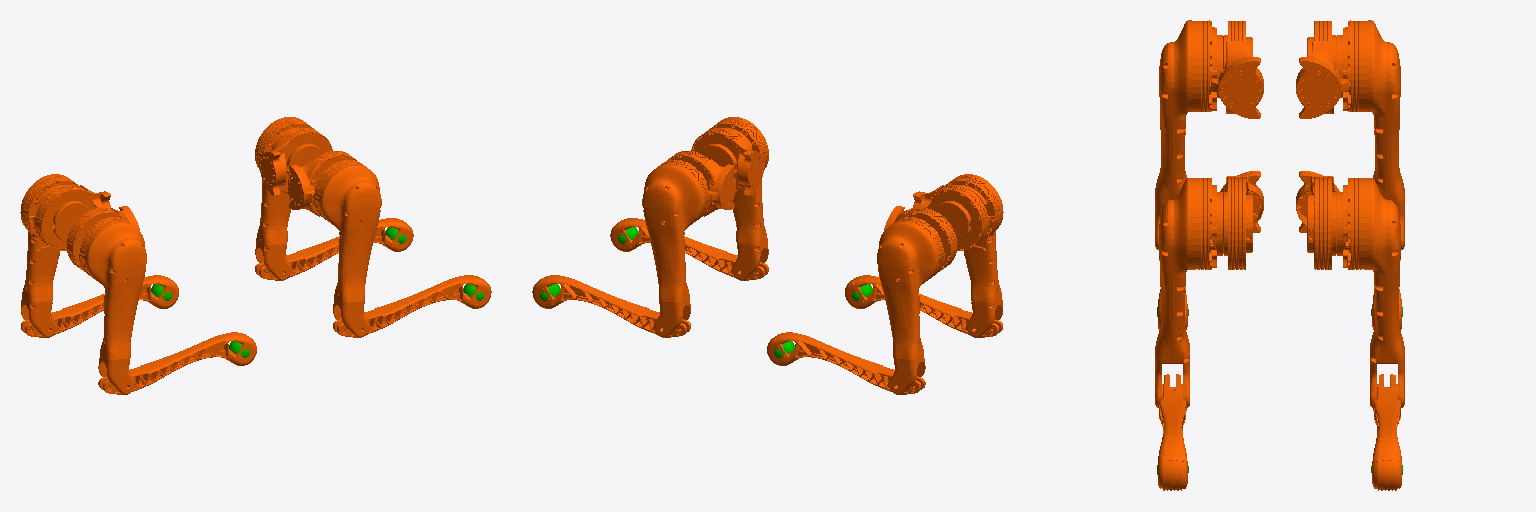
--- Facts derived from the render (not from the file) ---
Views: 3 orthographic renders of the robot side by side, from view 1: azimuth 30°, elevation 25°; view 2: azimuth 150°, elevation 25°; view 3: azimuth 270°, elevation 25°.
Robot: b1_description — 19 links, 18 joints (8 revolute, 4 continuous, 6 fixed); root link base; default pose: all joints at 0 but 4 set to mid-range because 0 is outside their limits (FR_calf_joint = -1.6, FL_calf_joint = -1.6, RR_calf_joint = -1.6, RL_calf_joint = -1.6).
Links seen in each view (by area): view 1: FR_thigh, RR_thigh, RL_thigh, FL_thigh, FR_calf, RR_calf, RL_hip, FL_hip, FL_calf, RL_calf, FR_hip, RR_hip; view 2: FL_thigh, RL_thigh, RR_thigh, FR_thigh, FL_calf, RL_calf, RR_hip, FR_hip, FR_calf, RR_calf, FL_hip, RL_hip; view 3: FR_thigh, FL_thigh, RL_thigh, RR_thigh, RR_hip, RL_hip, FR_hip, FL_hip, FR_calf, FL_calf.
Link boxes in pixels (x1=…): FR_thigh: x1=313, y1=160, x2=381, y2=337; RR_thigh: x1=79, y1=217, x2=146, y2=394; RL_thigh: x1=20, y1=174, x2=78, y2=337; FL_thigh: x1=255, y1=117, x2=314, y2=280; FR_calf: x1=333, y1=275, x2=491, y2=337; RR_calf: x1=98, y1=332, x2=256, y2=394; RL_hip: x1=35, y1=185, x2=110, y2=250; FL_hip: x1=259, y1=128, x2=332, y2=195; FL_calf: x1=255, y1=218, x2=413, y2=280; RL_calf: x1=21, y1=275, x2=178, y2=337; FR_hip: x1=288, y1=151, x2=356, y2=216; RR_hip: x1=67, y1=206, x2=139, y2=271; FL_thigh: x1=642, y1=160, x2=710, y2=337; RL_thigh: x1=877, y1=217, x2=944, y2=394; RR_thigh: x1=945, y1=174, x2=1003, y2=337; FR_thigh: x1=709, y1=117, x2=768, y2=280; FL_calf: x1=532, y1=275, x2=690, y2=337; RL_calf: x1=767, y1=332, x2=925, y2=394; RR_hip: x1=913, y1=185, x2=988, y2=250; FR_hip: x1=691, y1=128, x2=764, y2=195; FR_calf: x1=610, y1=218, x2=768, y2=280; RR_calf: x1=845, y1=275, x2=1002, y2=337; FL_hip: x1=667, y1=151, x2=735, y2=216; RL_hip: x1=884, y1=206, x2=956, y2=271; FR_thigh: x1=1155, y1=178, x2=1222, y2=407; FL_thigh: x1=1337, y1=178, x2=1404, y2=407; RL_thigh: x1=1337, y1=20, x2=1404, y2=249; RR_thigh: x1=1155, y1=20, x2=1222, y2=249; RR_hip: x1=1211, y1=21, x2=1263, y2=118; RL_hip: x1=1296, y1=21, x2=1348, y2=118; FR_hip: x1=1220, y1=171, x2=1263, y2=269; FL_hip: x1=1296, y1=171, x2=1339, y2=269; FR_calf: x1=1158, y1=374, x2=1187, y2=490; FL_calf: x1=1372, y1=374, x2=1401, y2=490.
Size in the robot's own frame: 1.17 by 0.4615 by 0.465 metres.
12 mesh visuals loaded from 5 distinct referenced files (4 Collada DAE); not drawn: 1 (reference not matched to a file when rendering).

URDF robot description (b1_description):
<?xml version="1.0" encoding="utf-8"?>
<!-- =================================================================================== -->
<!-- |    This document was autogenerated by xacro from robot.xacro                    | -->
<!-- |    EDITING THIS FILE BY HAND IS NOT RECOMMENDED                                 | -->
<!-- =================================================================================== -->
<robot name="b1_description">
  <material name="black">
    <color rgba="0.0 0.0 0.0 1.0"/>
  </material>
  <material name="blue">
    <color rgba="0.0 0.0 0.8 1.0"/>
  </material>
  <material name="green">
    <color rgba="0.0 0.8 0.0 1.0"/>
  </material>
  <material name="grey">
    <color rgba="0.2 0.2 0.2 1.0"/>
  </material>
  <material name="silver">
    <color rgba="0.913725490196 0.913725490196 0.847058823529 1.0"/>
  </material>
  <material name="orange">
    <color rgba="1.0 0.423529411765 0.0392156862745 1.0"/>
  </material>
  <material name="brown">
    <color rgba="0.870588235294 0.811764705882 0.764705882353 1.0"/>
  </material>
  <material name="red">
    <color rgba="0.8 0.0 0.0 1.0"/>
  </material>
  <material name="white">
    <color rgba="1.0 1.0 1.0 1.0"/>
  </material>
  <!-- ros_control plugin -->
  <gazebo>
    <plugin filename="libgazebo_ros_control.so" name="gazebo_ros_control">
      <robotNamespace>/b1</robotNamespace>
      <robotSimType>gazebo_ros_control/DefaultRobotHWSim</robotSimType>
    </plugin>
  </gazebo>
  <!-- Show the trajectory of trunk center. -->
  <gazebo>
    <plugin filename="libLinkPlot3DPlugin.so" name="3dplot">
      <frequency>10</frequency>
      <plot>
        <link>base</link>
        <pose>0 0 0 0 0 0</pose>
        <material>Gazebo/Yellow</material>
      </plot>
    </plugin>
  </gazebo>
  <!-- Show the trajectory of foot. You can add another trajectory about another foot. -->
  <!-- <gazebo>
        <plugin name="3dplot" filename="libLinkPlot3DPlugin.so">
            <frequency>100</frequency>
            <plot>
                <link>FL_foot</link>
                <pose>0 0 0 0 0 0</pose>
                <material>Gazebo/Green</material>
            </plot>
        </plugin>
    </gazebo> -->
  <gazebo>
    <plugin filename="libgazebo_ros_force.so" name="gazebo_ros_force">
      <bodyName>trunk</bodyName>
      <topicName>/apply_force/trunk</topicName>
    </plugin>
  </gazebo>
  <gazebo reference="imu_link">
    <gravity>true</gravity>
    <sensor name="imu_sensor" type="imu">
      <always_on>true</always_on>
      <update_rate>1000</update_rate>
      <visualize>true</visualize>
      <topic>__default_topic__</topic>
      <plugin filename="libgazebo_ros_imu_sensor.so" name="imu_plugin">
        <topicName>trunk_imu</topicName>
        <bodyName>imu_link</bodyName>
        <updateRateHZ>1000.0</updateRateHZ>
        <gaussianNoise>0.0</gaussianNoise>
        <xyzOffset>0 0 0</xyzOffset>
        <rpyOffset>0 0 0</rpyOffset>
        <frameName>imu_link</frameName>
      </plugin>
      <pose>0 0 0 0 0 0</pose>
    </sensor>
  </gazebo>
  <!-- Foot contacts. -->
  <gazebo reference="FR_calf">
    <sensor name="FR_foot_contact" type="contact">
      <update_rate>100</update_rate>
      <plugin filename="libunitreeFootContactPlugin.so" name="contactPlugin"/>
      <contact>
        <collision>FR_calf_fixed_joint_lump__FR_foot_collision_1</collision>
      </contact>
    </sensor>
  </gazebo>
  <gazebo reference="FL_calf">
    <sensor name="FL_foot_contact" type="contact">
      <update_rate>100</update_rate>
      <plugin filename="libunitreeFootContactPlugin.so" name="contactPlugin"/>
      <contact>
        <collision>FL_calf_fixed_joint_lump__FL_foot_collision_1</collision>
      </contact>
    </sensor>
  </gazebo>
  <gazebo reference="RR_calf">
    <sensor name="RR_foot_contact" type="contact">
      <update_rate>100</update_rate>
      <plugin filename="libunitreeFootContactPlugin.so" name="contactPlugin"/>
      <contact>
        <collision>RR_calf_fixed_joint_lump__RR_foot_collision_1</collision>
      </contact>
    </sensor>
  </gazebo>
  <gazebo reference="RL_calf">
    <sensor name="RL_foot_contact" type="contact">
      <update_rate>100</update_rate>
      <plugin filename="libunitreeFootContactPlugin.so" name="contactPlugin"/>
      <contact>
        <collision>RL_calf_fixed_joint_lump__RL_foot_collision_1</collision>
      </contact>
    </sensor>
  </gazebo>
  <!-- Visualization of Foot contacts. -->
  <gazebo reference="FR_foot">
    <visual>
      <plugin filename="libunitreeDrawForcePlugin.so" name="drawForcePlugin">
        <topicName>FR_foot_contact</topicName>
      </plugin>
    </visual>
  </gazebo>
  <gazebo reference="FL_foot">
    <visual>
      <plugin filename="libunitreeDrawForcePlugin.so" name="drawForcePlugin">
        <topicName>FL_foot_contact</topicName>
      </plugin>
    </visual>
  </gazebo>
  <gazebo reference="RR_foot">
    <visual>
      <plugin filename="libunitreeDrawForcePlugin.so" name="drawForcePlugin">
        <topicName>RR_foot_contact</topicName>
      </plugin>
    </visual>
  </gazebo>
  <gazebo reference="RL_foot">
    <visual>
      <plugin filename="libunitreeDrawForcePlugin.so" name="drawForcePlugin">
        <topicName>RL_foot_contact</topicName>
      </plugin>
    </visual>
  </gazebo>
  <gazebo reference="base">
    <material>Gazebo/DarkGrey</material>
    <turnGravityOff>false</turnGravityOff>
  </gazebo>
  <gazebo reference="trunk">
    <mu1>0.2</mu1>
    <mu2>0.2</mu2>
    <kp value="1000000.0"/>
    <kd value="1.0"/>
    <material>Gazebo/DarkGrey</material>
  </gazebo>
  <gazebo reference="stick_link">
    <mu1>0.2</mu1>
    <mu2>0.2</mu2>
    <material>Gazebo/White</material>
  </gazebo>
  <gazebo reference="imu_link">
    <mu1>0.2</mu1>
    <mu2>0.2</mu2>
    <material>Gazebo/Red</material>
  </gazebo>
  <!-- FL leg -->
  <gazebo reference="FL_hip">
    <mu1>0.2</mu1>
    <mu2>0.2</mu2>
    <material>Gazebo/DarkGrey</material>
  </gazebo>
  <gazebo reference="FL_thigh">
    <mu1>0.2</mu1>
    <mu2>0.2</mu2>
    <self_collide>1</self_collide>
    <material>Gazebo/DarkGrey</material>
    <kp value="1000000.0"/>
    <kd value="1.0"/>
  </gazebo>
  <gazebo reference="FL_calf">
    <mu1>0.2</mu1>
    <mu2>0.2</mu2>
    <self_collide>1</self_collide>
    <material>Gazebo/DarkGrey</material>
  </gazebo>
  <gazebo reference="FL_foot">
    <mu1>0.6</mu1>
    <mu2>0.6</mu2>
    <self_collide>1</self_collide>
    <material>Gazebo/DarkGrey</material>
    <kp value="1000000.0"/>
    <kd value="1.0"/>
  </gazebo>
  <!-- FR leg -->
  <gazebo reference="FR_hip">
    <mu1>0.2</mu1>
    <mu2>0.2</mu2>
    <material>Gazebo/DarkGrey</material>
  </gazebo>
  <gazebo reference="FR_thigh">
    <mu1>0.2</mu1>
    <mu2>0.2</mu2>
    <self_collide>1</self_collide>
    <material>Gazebo/DarkGrey</material>
    <kp value="1000000.0"/>
    <kd value="1.0"/>
  </gazebo>
  <gazebo reference="FR_calf">
    <mu1>0.2</mu1>
    <mu2>0.2</mu2>
    <self_collide>1</self_collide>
    <material>Gazebo/DarkGrey</material>
  </gazebo>
  <gazebo reference="FR_foot">
    <mu1>0.6</mu1>
    <mu2>0.6</mu2>
    <self_collide>1</self_collide>
    <material>Gazebo/DarkGrey</material>
    <kp value="1000000.0"/>
    <kd value="1.0"/>
  </gazebo>
  <!-- RL leg -->
  <gazebo reference="RL_hip">
    <mu1>0.2</mu1>
    <mu2>0.2</mu2>
    <material>Gazebo/DarkGrey</material>
  </gazebo>
  <gazebo reference="RL_thigh">
    <mu1>0.2</mu1>
    <mu2>0.2</mu2>
    <self_collide>1</self_collide>
    <material>Gazebo/DarkGrey</material>
    <kp value="1000000.0"/>
    <kd value="1.0"/>
  </gazebo>
  <gazebo reference="RL_calf">
    <mu1>0.2</mu1>
    <mu2>0.2</mu2>
    <self_collide>1</self_collide>
    <material>Gazebo/DarkGrey</material>
  </gazebo>
  <gazebo reference="RL_foot">
    <mu1>0.6</mu1>
    <mu2>0.6</mu2>
    <self_collide>1</self_collide>
    <material>Gazebo/DarkGrey</material>
    <kp value="1000000.0"/>
    <kd value="1.0"/>
  </gazebo>
  <!-- RR leg -->
  <gazebo reference="RR_hip">
    <mu1>0.2</mu1>
    <mu2>0.2</mu2>
    <material>Gazebo/DarkGrey</material>
  </gazebo>
  <gazebo reference="RR_thigh">
    <mu1>0.2</mu1>
    <mu2>0.2</mu2>
    <self_collide>1</self_collide>
    <material>Gazebo/DarkGrey</material>
    <kp value="1000000.0"/>
    <kd value="1.0"/>
  </gazebo>
  <gazebo reference="RR_calf">
    <mu1>0.2</mu1>
    <mu2>0.2</mu2>
    <self_collide>1</self_collide>
    <material>Gazebo/DarkGrey</material>
  </gazebo>
  <gazebo reference="RR_foot">
    <mu1>0.6</mu1>
    <mu2>0.6</mu2>
    <self_collide>1</self_collide>
    <material>Gazebo/DarkGrey</material>
    <kp value="1000000.0"/>
    <kd value="1.0"/>
  </gazebo>
  <!-- Debug mode will hung up the robot, use "true" or "false" to switch it. -->
  <!-- <xacro:if value="$(arg DEBUG)">
        <link name="world"/>
        <joint name="base_static_joint" type="fixed">
            <origin rpy="0 0 0" xyz="0 0 0"/>
            <parent link="world"/>
            <child link="base"/>
        </joint>
    </xacro:if>  -->
  <link name="base">
    <visual>
      <origin rpy="0 0 0" xyz="0 0 0"/>
      <geometry>
        <box size="0.001 0.001 0.001"/>
      </geometry>
    </visual>
  </link>
  <joint name="floating_base" type="fixed">
    <origin rpy="0 0 0" xyz="0 0 0"/>
    <parent link="base"/>
    <child link="trunk"/>
  </joint>
  <link name="trunk">
    <visual>
      <origin rpy="0 0 0" xyz="0 0 0"/>
      <geometry>
        <mesh filename="package://b1_description/meshes/trunk.dae" scale="1 1 1"/>
      </geometry>
      <material name="orange"/>
    </visual>
    <collision>
      <origin rpy="0 0 0" xyz="0 0 0"/>
      <geometry>
        <box size="0.647 0.3 0.15"/>
      </geometry>
    </collision>
    <!-- <collision>
            <origin rpy="0 0 0" xyz="0 0 0"/>
            <geometry>
                <mesh filename="package://b1_description/meshes/trunk.dae" scale="1 1 1"/>
            </geometry>
        </collision> -->
    <inertial>
      <origin rpy="0 0 0" xyz="0.008465 0.004045 -0.000763"/>
      <mass value="9.041"/>
      <inertia ixx="0.033260231" ixy="-0.000451628" ixz="0.000487603" iyy="0.16117211" iyz="4.8356e-05" izz="0.17460442"/>
    </inertial>
  </link>
  <joint name="imu_joint" type="fixed">
    <parent link="trunk"/>
    <child link="imu_link"/>
    <origin rpy="0 0 0" xyz="0 0 0"/>
  </joint>
  <link name="imu_link">
    <inertial>
      <mass value="0.001"/>
      <origin rpy="0 0 0" xyz="0 0 0"/>
      <inertia ixx="0.0001" ixy="0" ixz="0" iyy="0.000001" iyz="0" izz="0.0001"/>
    </inertial>
    <visual>
      <origin rpy="0 0 0" xyz="0 0 0"/>
      <geometry>
        <box size="0.001 0.001 0.001"/>
      </geometry>
      <material name="red"/>
    </visual>
    <collision>
      <origin rpy="0 0 0" xyz="0 0 0"/>
      <geometry>
        <box size=".001 .001 .001"/>
      </geometry>
    </collision>
  </link>
  <joint name="FR_hip_joint" type="revolute">
    <origin rpy="0 0 0" xyz="0.3455 -0.072 0"/>
    <parent link="trunk"/>
    <child link="FR_hip"/>
    <axis xyz="1 0 0"/>
    <dynamics damping="0" friction="0"/>
    <limit effort="100" lower="-0.75" upper="0.75" velocity="20"/>
  </joint>
  <link name="FR_hip">
    <visual>
      <origin rpy="3.14159265359 0 0" xyz="0 0 0"/>
      <geometry>
        <mesh filename="package://b1_description/meshes/hip.dae" scale="1 1 1"/>
      </geometry>
      <material name="orange"/>
    </visual>
    <collision>
      <origin rpy="1.57079632679 0 0" xyz="0 -0.12675 0"/>
      <geometry>
        <cylinder length="0.04" radius="0.09"/>
      </geometry>
    </collision>
    <inertial>
      <origin rpy="0 0 0" xyz="-0.022191 -0.015144 -1.5e-05"/>
      <mass value="1.993"/>
      <inertia ixx="0.002903894" ixy="7.185e-05" ixz="-1.262e-06" iyy="0.004907517" iyz="1.75e-06" izz="0.005586944"/>
    </inertial>
  </link>
  <!-- <joint name="${name}_hip_fixed" type="fixed">
            <origin rpy="0 0 0" xyz="0 ${(thigh_shoulder_length/2.0+hip_offset)*mirror} 0"/>
            <parent link="${name}_hip"/>
            <child link="${name}_thigh_shoulder"/>
        </joint> -->
  <!-- this link is only for collision -->
  <!-- <link name="${name}_thigh_shoulder">
            <collision>
                <origin rpy="${PI/2.0} 0 0" xyz="0 0 0"/>
                <geometry>
                    <cylinder length="${thigh_shoulder_length}" radius="${thigh_shoulder_radius}"/>
                </geometry>
            </collision>
        </link> -->
  <joint name="FR_thigh_joint" type="continuous">
    <origin rpy="0 0 0" xyz="0 -0.12675 0"/>
    <parent link="FR_hip"/>
    <child link="FR_thigh"/>
    <axis xyz="0 1 0"/>
    <dynamics damping="0" friction="0"/>
    <limit effort="100" lower="-1.0" upper="3.5" velocity="20"/>
  </joint>
  <link name="FR_thigh">
    <visual>
      <origin rpy="0 0 0" xyz="0 0 0"/>
      <geometry>
        <mesh filename="package://b1_description/meshes/thigh_mirror.dae" scale="1 1 1"/>
      </geometry>
      <material name="orange"/>
    </visual>
    <collision>
      <origin rpy="0 1.57079632679 0" xyz="0 0 -0.175"/>
      <geometry>
        <box size="0.35 0.05 0.08"/>
      </geometry>
    </collision>
    <inertial>
      <origin rpy="0 0 0" xyz="-0.005607 0.003877 -0.048199"/>
      <mass value="0.639"/>
      <inertia ixx="0.005666803" ixy="-3.597e-06" ixz="0.000491446" iyy="0.005847229" iyz="-1.0086e-05" izz="0.000369811"/>
    </inertial>
  </link>
  <joint name="FR_calf_joint" type="revolute">
    <origin rpy="0 0 0" xyz="0 0 -0.35"/>
    <parent link="FR_thigh"/>
    <child link="FR_calf"/>
    <axis xyz="0 1 0"/>
    <dynamics damping="0" friction="0"/>
    <limit effort="100" lower="-2.6" upper="-0.6" velocity="20"/>
  </joint>
  <link name="FR_calf">
    <visual>
      <origin rpy="0 0 0" xyz="0 0 0"/>
      <geometry>
        <mesh filename="package://b1_description/meshes/calf.dae" scale="1 1 1"/>
      </geometry>
      <material name="orange"/>
    </visual>
    <collision>
      <origin rpy="0 1.57079632679 0" xyz="0 0 -0.175"/>
      <geometry>
        <box size="0.35 0.04 0.03"/>
      </geometry>
    </collision>
    <inertial>
      <origin rpy="0 0 0" xyz="0.002781 6.3e-05 -0.142518"/>
      <mass value="0.207"/>
      <inertia ixx="0.006341369" ixy="-3e-09" ixz="-8.7951e-05" iyy="0.006355157" iyz="-1.336e-06" izz="3.9188e-05"/>
    </inertial>
  </link>
  <joint name="FR_foot_fixed" type="fixed">
    <origin rpy="0 0 0" xyz="0 0 -0.35"/>
    <parent link="FR_calf"/>
    <child link="FR_foot"/>
  </joint>
  <link name="FR_foot">
    <visual>
      <origin rpy="0 0 0" xyz="0 0 0"/>
      <geometry>
        <sphere radius="0.03"/>
      </geometry>
      <material name="green"/>
    </visual>
    <collision>
      <origin rpy="0 0 0" xyz="0 0 0"/>
      <geometry>
        <sphere radius="0.04"/>
      </geometry>
    </collision>
    <inertial>
      <mass value="0.06"/>
      <inertia ixx="3.84e-05" ixy="0.0" ixz="0.0" iyy="3.84e-05" iyz="0.0" izz="3.84e-05"/>
    </inertial>
  </link>
  <transmission name="FR_hip_tran">
    <type>transmission_interface/SimpleTransmission</type>
    <joint name="FR_hip_joint">
      <hardwareInterface>hardware_interface/EffortJointInterface</hardwareInterface>
    </joint>
    <actuator name="FR_hip_motor">
      <hardwareInterface>hardware_interface/EffortJointInterface</hardwareInterface>
      <mechanicalReduction>1</mechanicalReduction>
    </actuator>
  </transmission>
  <transmission name="FR_thigh_tran">
    <type>transmission_interface/SimpleTransmission</type>
    <joint name="FR_thigh_joint">
      <hardwareInterface>hardware_interface/EffortJointInterface</hardwareInterface>
    </joint>
    <actuator name="FR_thigh_motor">
      <hardwareInterface>hardware_interface/EffortJointInterface</hardwareInterface>
      <mechanicalReduction>1</mechanicalReduction>
    </actuator>
  </transmission>
  <transmission name="FR_calf_tran">
    <type>transmission_interface/SimpleTransmission</type>
    <joint name="FR_calf_joint">
      <hardwareInterface>hardware_interface/EffortJointInterface</hardwareInterface>
    </joint>
    <actuator name="FR_calf_motor">
      <hardwareInterface>hardware_interface/EffortJointInterface</hardwareInterface>
      <mechanicalReduction>1</mechanicalReduction>
    </actuator>
  </transmission>
  <joint name="FL_hip_joint" type="revolute">
    <origin rpy="0 0 0" xyz="0.3455 0.072 0"/>
    <parent link="trunk"/>
    <child link="FL_hip"/>
    <axis xyz="1 0 0"/>
    <dynamics damping="0" friction="0"/>
    <limit effort="100" lower="-0.75" upper="0.75" velocity="20"/>
  </joint>
  <link name="FL_hip">
    <visual>
      <origin rpy="0 0 0" xyz="0 0 0"/>
      <geometry>
        <mesh filename="package://b1_description/meshes/hip.dae" scale="1 1 1"/>
      </geometry>
      <material name="orange"/>
    </visual>
    <collision>
      <origin rpy="1.57079632679 0 0" xyz="0 0.12675 0"/>
      <geometry>
        <cylinder length="0.04" radius="0.09"/>
      </geometry>
    </collision>
    <inertial>
      <origin rpy="0 0 0" xyz="-0.022191 0.015144 -1.5e-05"/>
      <mass value="1.993"/>
      <inertia ixx="0.002903894" ixy="-7.185e-05" ixz="-1.262e-06" iyy="0.004907517" iyz="-1.75e-06" izz="0.005586944"/>
    </inertial>
  </link>
  <!-- <joint name="${name}_hip_fixed" type="fixed">
            <origin rpy="0 0 0" xyz="0 ${(thigh_shoulder_length/2.0+hip_offset)*mirror} 0"/>
            <parent link="${name}_hip"/>
            <child link="${name}_thigh_shoulder"/>
        </joint> -->
  <!-- this link is only for collision -->
  <!-- <link name="${name}_thigh_shoulder">
            <collision>
                <origin rpy="${PI/2.0} 0 0" xyz="0 0 0"/>
                <geometry>
                    <cylinder length="${thigh_shoulder_length}" radius="${thigh_shoulder_radius}"/>
                </geometry>
            </collision>
        </link> -->
  <joint name="FL_thigh_joint" type="continuous">
    <origin rpy="0 0 0" xyz="0 0.12675 0"/>
    <parent link="FL_hip"/>
    <child link="FL_thigh"/>
    <axis xyz="0 1 0"/>
    <dynamics damping="0" friction="0"/>
    <limit effort="100" lower="-1.0" upper="3.5" velocity="20"/>
  </joint>
  <link name="FL_thigh">
    <visual>
      <origin rpy="0 0 0" xyz="0 0 0"/>
      <geometry>
        <mesh filename="package://b1_description/meshes/thigh.dae" scale="1 1 1"/>
      </geometry>
      <material name="orange"/>
    </visual>
    <collision>
      <origin rpy="0 1.57079632679 0" xyz="0 0 -0.175"/>
      <geometry>
        <box size="0.35 0.05 0.08"/>
      </geometry>
    </collision>
    <inertial>
      <origin rpy="0 0 0" xyz="-0.005607 -0.003877 -0.048199"/>
      <mass value="0.639"/>
      <inertia ixx="0.005666803" ixy="3.597e-06" ixz="0.000491446" iyy="0.005847229" iyz="1.0086e-05" izz="0.000369811"/>
    </inertial>
  </link>
  <joint name="FL_calf_joint" type="revolute">
    <origin rpy="0 0 0" xyz="0 0 -0.35"/>
    <parent link="FL_thigh"/>
    <child link="FL_calf"/>
    <axis xyz="0 1 0"/>
    <dynamics damping="0" friction="0"/>
    <limit effort="100" lower="-2.6" upper="-0.6" velocity="20"/>
  </joint>
  <link name="FL_calf">
    <visual>
      <origin rpy="0 0 0" xyz="0 0 0"/>
      <geometry>
        <mesh filename="package://b1_description/meshes/calf.dae" scale="1 1 1"/>
      </geometry>
      <material name="orange"/>
    </visual>
    <collision>
      <origin rpy="0 1.57079632679 0" xyz="0 0 -0.175"/>
      <geometry>
        <box size="0.35 0.04 0.03"/>
      </geometry>
    </collision>
    <inertial>
      <origin rpy="0 0 0" xyz="0.002781 6.3e-05 -0.142518"/>
      <mass value="0.207"/>
      <inertia ixx="0.006341369" ixy="-3e-09" ixz="-8.7951e-05" iyy="0.006355157" iyz="-1.336e-06" izz="3.9188e-05"/>
    </inertial>
  </link>
  <joint name="FL_foot_fixed" type="fixed">
    <origin rpy="0 0 0" xyz="0 0 -0.35"/>
    <parent link="FL_calf"/>
    <child link="FL_foot"/>
  </joint>
  <link name="FL_foot">
    <visual>
      <origin rpy="0 0 0" xyz="0 0 0"/>
      <geometry>
        <sphere radius="0.03"/>
      </geometry>
      <material name="green"/>
    </visual>
    <collision>
      <origin rpy="0 0 0" xyz="0 0 0"/>
      <geometry>
        <sphere radius="0.04"/>
      </geometry>
    </collision>
    <inertial>
      <mass value="0.06"/>
      <inertia ixx="3.84e-05" ixy="0.0" ixz="0.0" iyy="3.84e-05" iyz="0.0" izz="3.84e-05"/>
    </inertial>
  </link>
  <transmission name="FL_hip_tran">
    <type>transmission_interface/SimpleTransmission</type>
    <joint name="FL_hip_joint">
      <hardwareInterface>hardware_interface/EffortJointInterface</hardwareInterface>
    </joint>
    <actuator name="FL_hip_motor">
      <hardwareInterface>hardware_interface/EffortJointInterface</hardwareInterface>
      <mechanicalReduction>1</mechanicalReduction>
    </actuator>
  </transmission>
  <transmission name="FL_thigh_tran">
    <type>transmission_interface/SimpleTransmission</type>
    <joint name="FL_thigh_joint">
      <hardwareInterface>hardware_interface/EffortJointInterface</hardwareInterface>
    </joint>
    <actuator name="FL_thigh_motor">
      <hardwareInterface>hardware_interface/EffortJointInterface</hardwareInterface>
      <mechanicalReduction>1</mechanicalReduction>
    </actuator>
  </transmission>
  <transmission name="FL_calf_tran">
    <type>transmission_interface/SimpleTransmission</type>
    <joint name="FL_calf_joint">
      <hardwareInterface>hardware_interface/EffortJointInterface</hardwareInterface>
    </joint>
    <actuator name="FL_calf_motor">
      <hardwareInterface>hardware_interface/EffortJointInterface</hardwareInterface>
      <mechanicalReduction>1</mechanicalReduction>
    </actuator>
  </transmission>
  <joint name="RR_hip_joint" type="revolute">
    <origin rpy="0 0 0" xyz="-0.3455 -0.072 0"/>
    <parent link="trunk"/>
    <child link="RR_hip"/>
    <axis xyz="1 0 0"/>
    <dynamics damping="0" friction="0"/>
    <limit effort="100" lower="-0.75" upper="0.75" velocity="20"/>
  </joint>
  <link name="RR_hip">
    <visual>
      <origin rpy="3.14159265359 3.14159265359 0" xyz="0 0 0"/>
      <geometry>
        <mesh filename="package://b1_description/meshes/hip.dae" scale="1 1 1"/>
      </geometry>
      <material name="orange"/>
    </visual>
    <collision>
      <origin rpy="1.57079632679 0 0" xyz="0 -0.12675 0"/>
      <geometry>
        <cylinder length="0.04" radius="0.09"/>
      </geometry>
    </collision>
    <inertial>
      <origin rpy="0 0 0" xyz="0.022191 -0.015144 -1.5e-05"/>
      <mass value="1.993"/>
      <inertia ixx="0.002903894" ixy="-7.185e-05" ixz="1.262e-06" iyy="0.004907517" iyz="1.75e-06" izz="0.005586944"/>
    </inertial>
  </link>
  <!-- <joint name="${name}_hip_fixed" type="fixed">
            <origin rpy="0 0 0" xyz="0 ${(thigh_shoulder_length/2.0+hip_offset)*mirror} 0"/>
            <parent link="${name}_hip"/>
            <child link="${name}_thigh_shoulder"/>
        </joint> -->
  <!-- this link is only for collision -->
  <!-- <link name="${name}_thigh_shoulder">
            <collision>
                <origin rpy="${PI/2.0} 0 0" xyz="0 0 0"/>
                <geometry>
                    <cylinder length="${thigh_shoulder_length}" radius="${thigh_shoulder_radius}"/>
                </geometry>
            </collision>
        </link> -->
  <joint name="RR_thigh_joint" type="continuous">
    <origin rpy="0 0 0" xyz="0 -0.12675 0"/>
    <parent link="RR_hip"/>
    <child link="RR_thigh"/>
    <axis xyz="0 1 0"/>
    <dynamics damping="0" friction="0"/>
    <limit effort="100" lower="-1.0" upper="3.5" velocity="20"/>
  </joint>
  <link name="RR_thigh">
    <visual>
      <origin rpy="0 0 0" xyz="0 0 0"/>
      <geometry>
        <mesh filename="package://b1_description/meshes/thigh_mirror.dae" scale="1 1 1"/>
      </geometry>
      <material name="orange"/>
    </visual>
    <collision>
      <origin rpy="0 1.57079632679 0" xyz="0 0 -0.175"/>
      <geometry>
        <box size="0.35 0.05 0.08"/>
      </geometry>
    </collision>
    <inertial>
      <origin rpy="0 0 0" xyz="-0.005607 0.003877 -0.048199"/>
      <mass value="0.639"/>
      <inertia ixx="0.005666803" ixy="-3.597e-06" ixz="0.000491446" iyy="0.005847229" iyz="-1.0086e-05" izz="0.000369811"/>
    </inertial>
  </link>
  <joint name="RR_calf_joint" type="revolute">
    <origin rpy="0 0 0" xyz="0 0 -0.35"/>
    <parent link="RR_thigh"/>
    <child link="RR_calf"/>
    <axis xyz="0 1 0"/>
    <dynamics damping="0" friction="0"/>
    <limit effort="100" lower="-2.6" upper="-0.6" velocity="20"/>
  </joint>
  <link name="RR_calf">
    <visual>
      <origin rpy="0 0 0" xyz="0 0 0"/>
      <geometry>
        <mesh filename="package://b1_description/meshes/calf.dae" scale="1 1 1"/>
      </geometry>
      <material name="orange"/>
    </visual>
    <collision>
      <origin rpy="0 1.57079632679 0" xyz="0 0 -0.175"/>
      <geometry>
        <box size="0.35 0.04 0.03"/>
      </geometry>
    </collision>
    <inertial>
      <origin rpy="0 0 0" xyz="0.002781 6.3e-05 -0.142518"/>
      <mass value="0.207"/>
      <inertia ixx="0.006341369" ixy="-3e-09" ixz="-8.7951e-05" iyy="0.006355157" iyz="-1.336e-06" izz="3.9188e-05"/>
    </inertial>
  </link>
  <joint name="RR_foot_fixed" type="fixed">
    <origin rpy="0 0 0" xyz="0 0 -0.35"/>
    <parent link="RR_calf"/>
    <child link="RR_foot"/>
  </joint>
  <link name="RR_foot">
    <visual>
      <origin rpy="0 0 0" xyz="0 0 0"/>
      <geometry>
        <sphere radius="0.03"/>
      </geometry>
      <material name="green"/>
    </visual>
    <collision>
      <origin rpy="0 0 0" xyz="0 0 0"/>
      <geometry>
        <sphere radius="0.04"/>
      </geometry>
    </collision>
    <inertial>
      <mass value="0.06"/>
      <inertia ixx="3.84e-05" ixy="0.0" ixz="0.0" iyy="3.84e-05" iyz="0.0" izz="3.84e-05"/>
    </inertial>
  </link>
  <transmission name="RR_hip_tran">
    <type>transmission_interface/SimpleTransmission</type>
    <joint name="RR_hip_joint">
      <hardwareInterface>hardware_interface/EffortJointInterface</hardwareInterface>
    </joint>
    <actuator name="RR_hip_motor">
      <hardwareInterface>hardware_interface/EffortJointInterface</hardwareInterface>
      <mechanicalReduction>1</mechanicalReduction>
    </actuator>
  </transmission>
  <transmission name="RR_thigh_tran">
    <type>transmission_interface/SimpleTransmission</type>
    <joint name="RR_thigh_joint">
      <hardwareInterface>hardware_interface/EffortJointInterface</hardwareInterface>
    </joint>
    <actuator name="RR_thigh_motor">
      <hardwareInterface>hardware_interface/EffortJointInterface</hardwareInterface>
      <mechanicalReduction>1</mechanicalReduction>
    </actuator>
  </transmission>
  <transmission name="RR_calf_tran">
    <type>transmission_interface/SimpleTransmission</type>
    <joint name="RR_calf_joint">
      <hardwareInterface>hardware_interface/EffortJointInterface</hardwareInterface>
    </joint>
    <actuator name="RR_calf_motor">
      <hardwareInterface>hardware_interface/EffortJointInterface</hardwareInterface>
      <mechanicalReduction>1</mechanicalReduction>
    </actuator>
  </transmission>
  <joint name="RL_hip_joint" type="revolute">
    <origin rpy="0 0 0" xyz="-0.3455 0.072 0"/>
    <parent link="trunk"/>
    <child link="RL_hip"/>
    <axis xyz="1 0 0"/>
    <dynamics damping="0" friction="0"/>
    <limit effort="100" lower="-0.75" upper="0.75" velocity="20"/>
  </joint>
  <link name="RL_hip">
    <visual>
      <origin rpy="0 3.14159265359 0" xyz="0 0 0"/>
      <geometry>
        <mesh filename="package://b1_description/meshes/hip.dae" scale="1 1 1"/>
      </geometry>
      <material name="orange"/>
    </visual>
    <collision>
      <origin rpy="1.57079632679 0 0" xyz="0 0.12675 0"/>
      <geometry>
        <cylinder length="0.04" radius="0.09"/>
      </geometry>
    </collision>
    <inertial>
      <origin rpy="0 0 0" xyz="0.022191 0.015144 -1.5e-05"/>
      <mass value="1.993"/>
      <inertia ixx="0.002903894" ixy="7.185e-05" ixz="1.262e-06" iyy="0.004907517" iyz="-1.75e-06" izz="0.005586944"/>
    </inertial>
  </link>
  <!-- <joint name="${name}_hip_fixed" type="fixed">
            <origin rpy="0 0 0" xyz="0 ${(thigh_shoulder_length/2.0+hip_offset)*mirror} 0"/>
            <parent link="${name}_hip"/>
            <child link="${name}_thigh_shoulder"/>
        </joint> -->
  <!-- this link is only for collision -->
  <!-- <link name="${name}_thigh_shoulder">
            <collision>
                <origin rpy="${PI/2.0} 0 0" xyz="0 0 0"/>
                <geometry>
                    <cylinder length="${thigh_shoulder_length}" radius="${thigh_shoulder_radius}"/>
                </geometry>
            </collision>
        </link> -->
  <joint name="RL_thigh_joint" type="continuous">
    <origin rpy="0 0 0" xyz="0 0.12675 0"/>
    <parent link="RL_hip"/>
    <child link="RL_thigh"/>
    <axis xyz="0 1 0"/>
    <dynamics damping="0" friction="0"/>
    <limit effort="100" lower="-1.0" upper="3.5" velocity="20"/>
  </joint>
  <link name="RL_thigh">
    <visual>
      <origin rpy="0 0 0" xyz="0 0 0"/>
      <geometry>
        <mesh filename="package://b1_description/meshes/thigh.dae" scale="1 1 1"/>
      </geometry>
      <material name="orange"/>
    </visual>
    <collision>
      <origin rpy="0 1.57079632679 0" xyz="0 0 -0.175"/>
      <geometry>
        <box size="0.35 0.05 0.08"/>
      </geometry>
    </collision>
    <inertial>
      <origin rpy="0 0 0" xyz="-0.005607 -0.003877 -0.048199"/>
      <mass value="0.639"/>
      <inertia ixx="0.005666803" ixy="3.597e-06" ixz="0.000491446" iyy="0.005847229" iyz="1.0086e-05" izz="0.000369811"/>
    </inertial>
  </link>
  <joint name="RL_calf_joint" type="revolute">
    <origin rpy="0 0 0" xyz="0 0 -0.35"/>
    <parent link="RL_thigh"/>
    <child link="RL_calf"/>
    <axis xyz="0 1 0"/>
    <dynamics damping="0" friction="0"/>
    <limit effort="100" lower="-2.6" upper="-0.6" velocity="20"/>
  </joint>
  <link name="RL_calf">
    <visual>
      <origin rpy="0 0 0" xyz="0 0 0"/>
      <geometry>
        <mesh filename="package://b1_description/meshes/calf.dae" scale="1 1 1"/>
      </geometry>
      <material name="orange"/>
    </visual>
    <collision>
      <origin rpy="0 1.57079632679 0" xyz="0 0 -0.175"/>
      <geometry>
        <box size="0.35 0.04 0.03"/>
      </geometry>
    </collision>
    <inertial>
      <origin rpy="0 0 0" xyz="0.002781 6.3e-05 -0.142518"/>
      <mass value="0.207"/>
      <inertia ixx="0.006341369" ixy="-3e-09" ixz="-8.7951e-05" iyy="0.006355157" iyz="-1.336e-06" izz="3.9188e-05"/>
    </inertial>
  </link>
  <joint name="RL_foot_fixed" type="fixed">
    <origin rpy="0 0 0" xyz="0 0 -0.35"/>
    <parent link="RL_calf"/>
    <child link="RL_foot"/>
  </joint>
  <link name="RL_foot">
    <visual>
      <origin rpy="0 0 0" xyz="0 0 0"/>
      <geometry>
        <sphere radius="0.03"/>
      </geometry>
      <material name="green"/>
    </visual>
    <collision>
      <origin rpy="0 0 0" xyz="0 0 0"/>
      <geometry>
        <sphere radius="0.04"/>
      </geometry>
    </collision>
    <inertial>
      <mass value="0.06"/>
      <inertia ixx="3.84e-05" ixy="0.0" ixz="0.0" iyy="3.84e-05" iyz="0.0" izz="3.84e-05"/>
    </inertial>
  </link>
  <transmission name="RL_hip_tran">
    <type>transmission_interface/SimpleTransmission</type>
    <joint name="RL_hip_joint">
      <hardwareInterface>hardware_interface/EffortJointInterface</hardwareInterface>
    </joint>
    <actuator name="RL_hip_motor">
      <hardwareInterface>hardware_interface/EffortJointInterface</hardwareInterface>
      <mechanicalReduction>1</mechanicalReduction>
    </actuator>
  </transmission>
  <transmission name="RL_thigh_tran">
    <type>transmission_interface/SimpleTransmission</type>
    <joint name="RL_thigh_joint">
      <hardwareInterface>hardware_interface/EffortJointInterface</hardwareInterface>
    </joint>
    <actuator name="RL_thigh_motor">
      <hardwareInterface>hardware_interface/EffortJointInterface</hardwareInterface>
      <mechanicalReduction>1</mechanicalReduction>
    </actuator>
  </transmission>
  <transmission name="RL_calf_tran">
    <type>transmission_interface/SimpleTransmission</type>
    <joint name="RL_calf_joint">
      <hardwareInterface>hardware_interface/EffortJointInterface</hardwareInterface>
    </joint>
    <actuator name="RL_calf_motor">
      <hardwareInterface>hardware_interface/EffortJointInterface</hardwareInterface>
      <mechanicalReduction>1</mechanicalReduction>
    </actuator>
  </transmission>
  <!-- <xacro:stairs stairs="15" xpos="0" ypos="2.0" zpos="0" /> -->
</robot>
